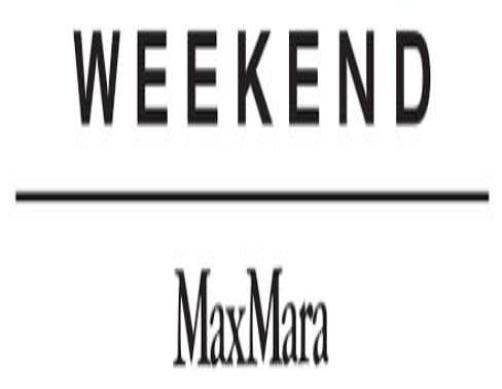MAX-MARA: (171, 266, 328, 364)
